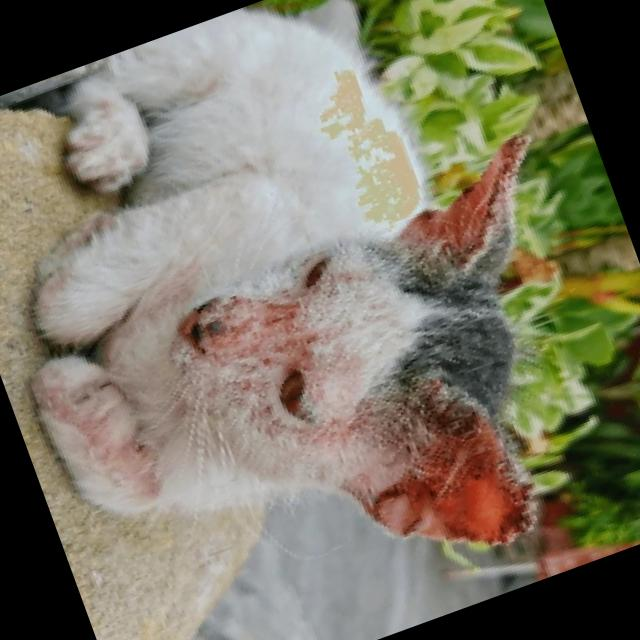Mange: (370, 469, 552, 548), (477, 131, 525, 244), (212, 308, 262, 356), (256, 296, 306, 334), (248, 391, 280, 424), (294, 322, 330, 351), (250, 348, 283, 372)
